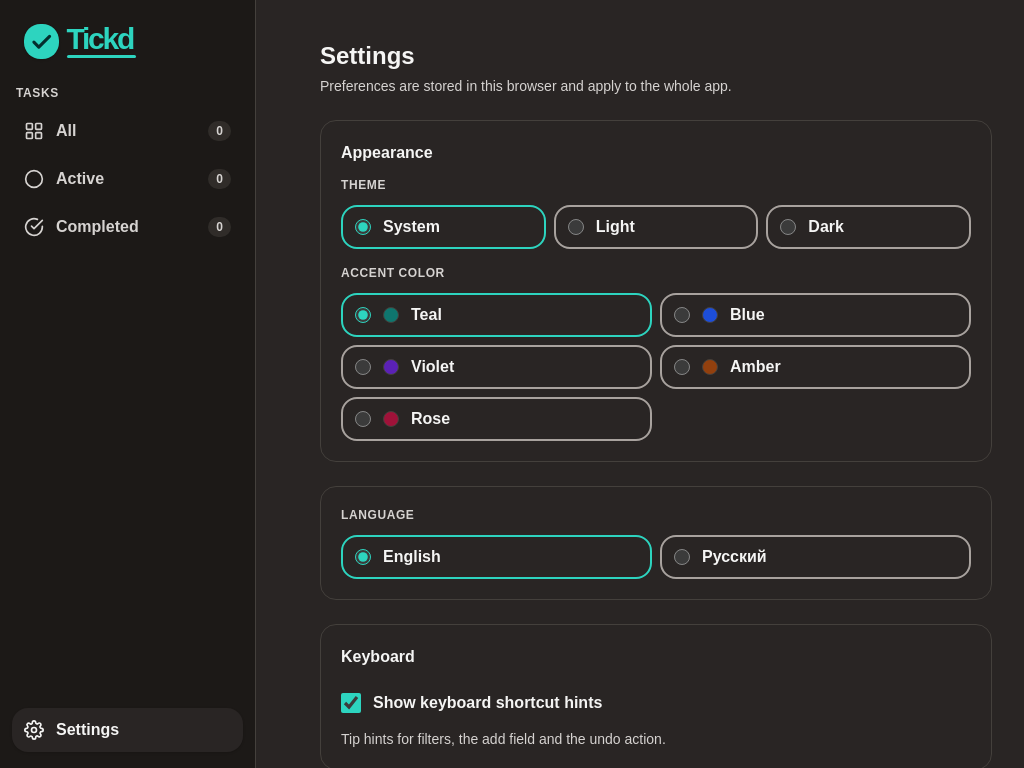
language selection › switches the whole interface to Russian
Click the radio button labelled "Русский" at [682, 557], box [674,549,690,565]
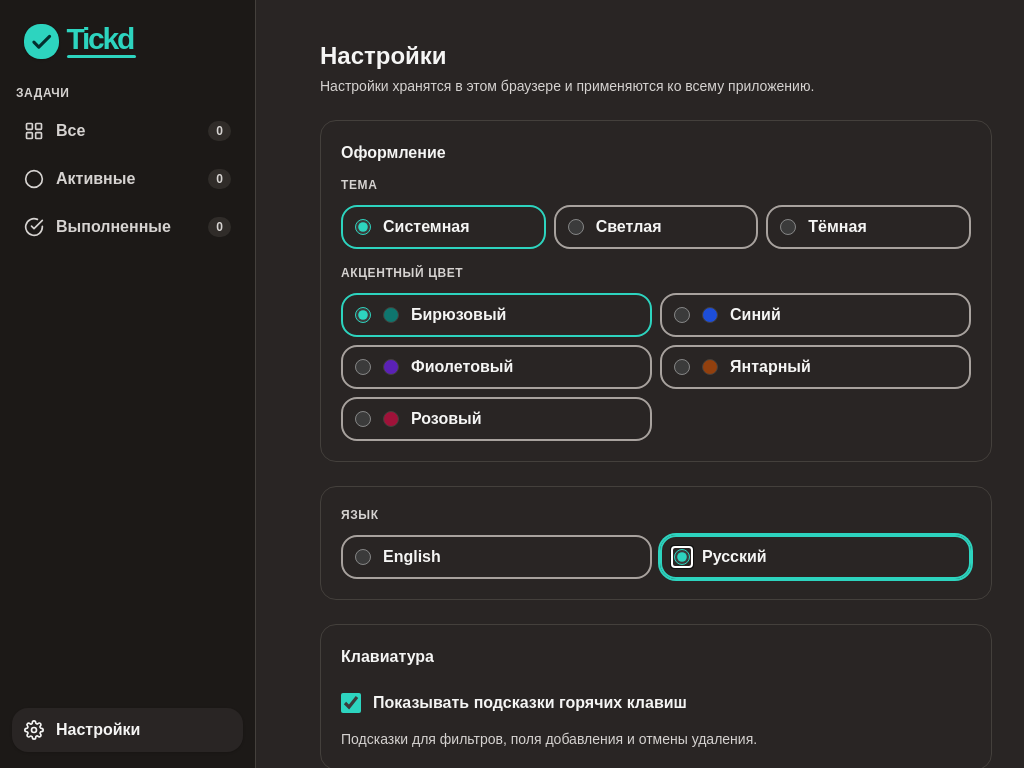
Check: the heading "Настройки" is shown, box [320,42,447,69]
Check: the element "Тема" is shown, box [341,177,971,249]
Check: the link "Все 0" is shown, box [24,121,231,141]
